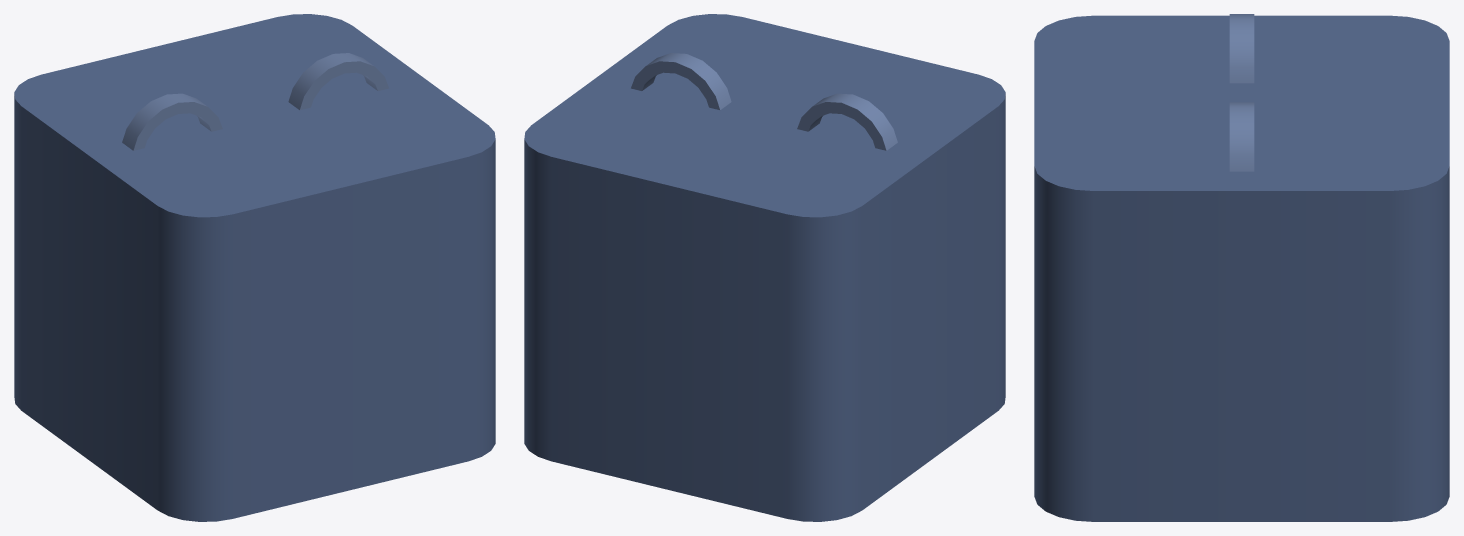
Rendered from Concrete Block A.fbx.
3 renders of one model, left to right at view 1: azimuth 30°, elevation 25°; view 2: azimuth 150°, elevation 25°; view 3: azimuth 270°, elevation 25°, orthographic. The views are drawn at different scales.
Parts seen in each view (by area): view 1: Concrete Box.002; view 2: Concrete Box.002; view 3: Concrete Box.002.
Part boxes in pixels (bbox=[...]): Concrete Box.002: bbox=[14, 14, 495, 521]; Concrete Box.002: bbox=[524, 14, 1005, 521]; Concrete Box.002: bbox=[1034, 14, 1449, 521].
Bounding box in the file's own units: 0.9086 × 0.8967 × 0.9086.
